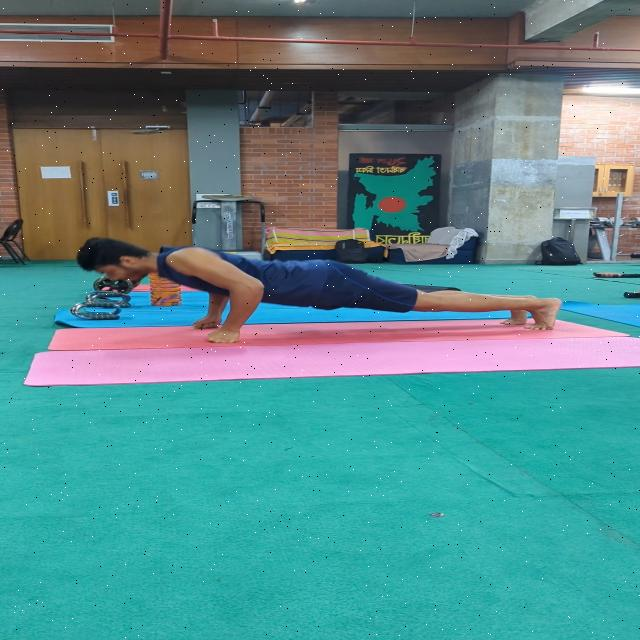Normal_PushUps: (56, 233, 572, 352)
